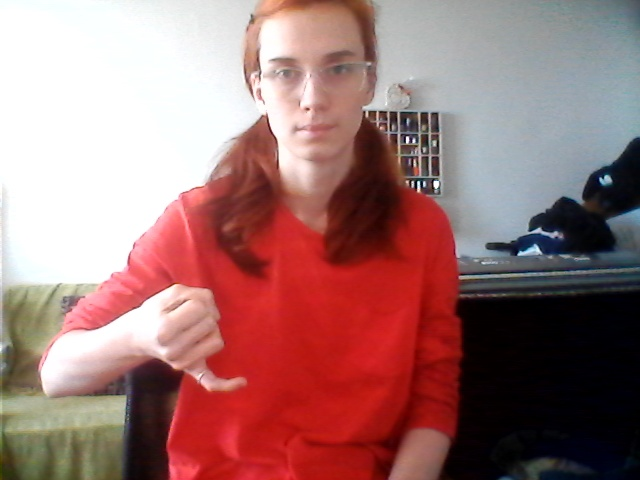j: (129, 275, 261, 402)
